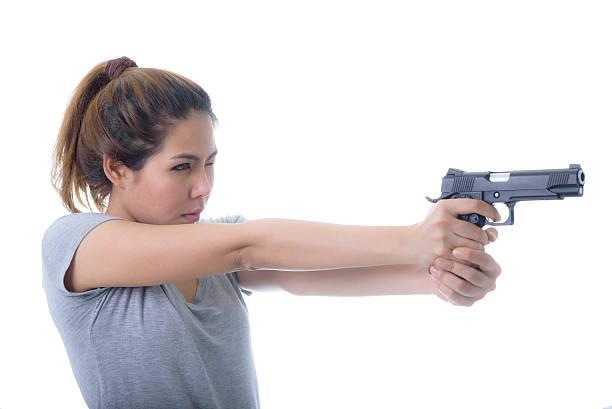weapon: (431, 158, 588, 241)
